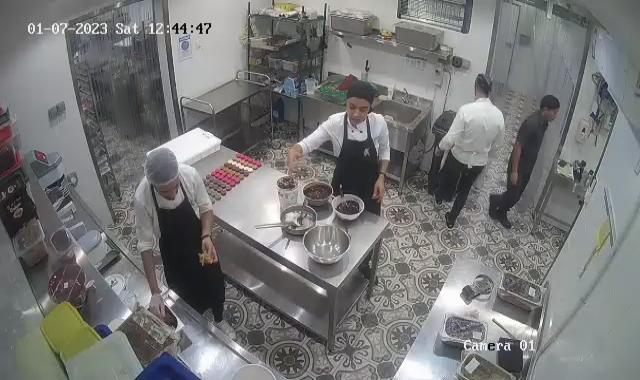hairnet: (142, 149, 180, 196)
no_hairnet: (344, 82, 374, 113), (540, 92, 560, 116), (473, 74, 492, 99)
